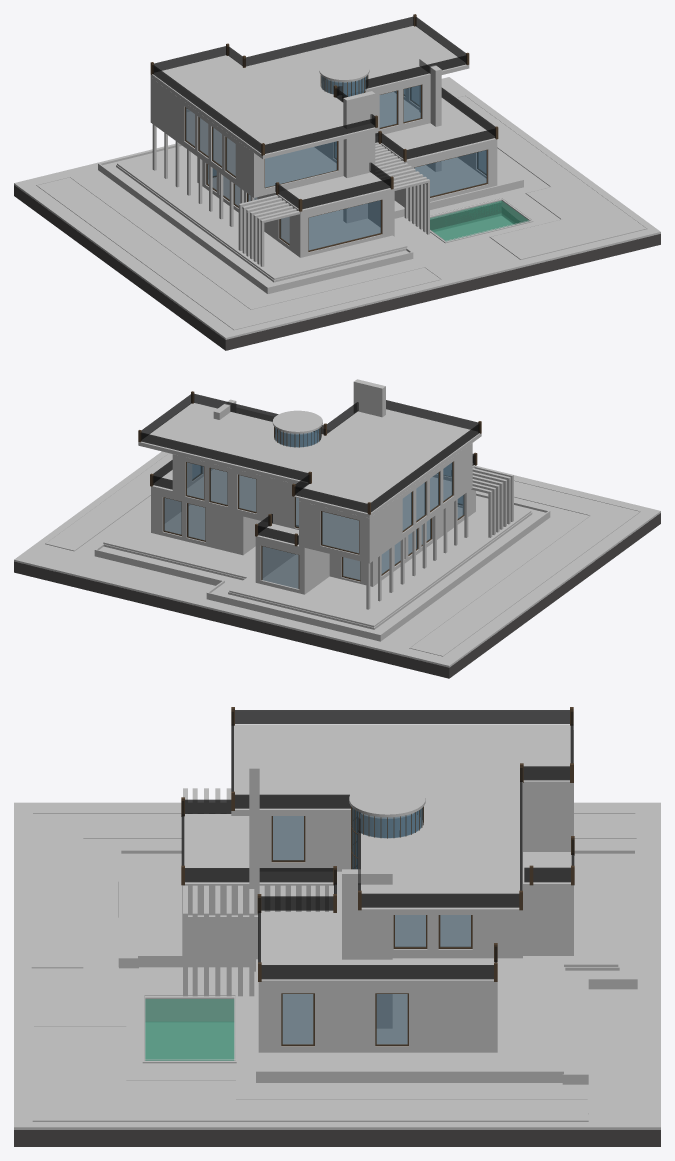
3 views of the same model, one above another, from view 1: azimuth 30°, elevation 25°; view 2: azimuth 150°, elevation 25°; view 3: azimuth 270°, elevation 25° (orthographic). The views are drawn at different scales.
Visible parts, largest first — view 1: Line013_12 - Car Paint_0, Line010_Wall Paint_0, Line019, Line022_24 - Default_0, Line017, Line025_Wall Paint_0, Line002_Ceramic_0, Shape063_01 - Default_0, Line006_Wall Paint_0, Line001_Solid Glass_0, Line004_Wall Paint_0, Line015_05 - Default_0 (+21 smaller); view 2: Line010_Wall Paint_0, Line013_12 - Car Paint_0, Line025_Wall Paint_0, Line002_Ceramic_0, Line019, Line001_Solid Glass_0, Line022_24 - Default_0, Shape063_01 - Default_0, Line015_05 - Default_0, Line007_Metal_0, Line016_04 - Default_0, Line017 (+15 smaller); view 3: Line013_12 - Car Paint_0, Line010_Wall Paint_0, Line025_Wall Paint_0, Line017, Line001_Solid Glass_0, Line006_Wall Paint_0, Line019, Line022_24 - Default_0, Line002_Ceramic_0, Shape063_01 - Default_0, Line021, Line016_04 - Default_0 (+23 smaller).
Boxes of the visible parts, left/top/right/bottom form: Line013_12 - Car Paint_0: left=14, top=77, right=660, bottom=339; Line010_Wall Paint_0: left=152, top=26, right=469, bottom=156; Line019: left=38, top=177, right=439, bottom=329; Line022_24 - Default_0: left=14, top=185, right=660, bottom=350; Line017: left=446, top=96, right=645, bottom=258; Line025_Wall Paint_0: left=117, top=147, right=523, bottom=279; Line002_Ceramic_0: left=150, top=77, right=430, bottom=197; Shape063_01 - Default_0: left=152, top=16, right=467, bottom=153; Line006_Wall Paint_0: left=275, top=86, right=496, bottom=211; Line001_Solid Glass_0: left=197, top=143, right=497, bottom=257; Line004_Wall Paint_0: left=208, top=157, right=486, bottom=250; Line015_05 - Default_0: left=98, top=144, right=413, bottom=293; Line010_Wall Paint_0: left=138, top=403, right=480, bottom=515; Line013_12 - Car Paint_0: left=14, top=408, right=660, bottom=667; Line025_Wall Paint_0: left=103, top=496, right=531, bottom=626; Line002_Ceramic_0: left=172, top=443, right=472, bottom=563; Line019: left=410, top=481, right=639, bottom=655; Line001_Solid Glass_0: left=151, top=489, right=475, bottom=594; Line022_24 - Default_0: left=14, top=513, right=660, bottom=678; Shape063_01 - Default_0: left=140, top=393, right=480, bottom=512; Line015_05 - Default_0: left=94, top=493, right=550, bottom=641; Line007_Metal_0: left=187, top=469, right=451, bottom=552; Line016_04 - Default_0: left=99, top=495, right=545, bottom=633; Line017: left=46, top=453, right=172, bottom=549; Line013_12 - Car Paint_0: left=14, top=802, right=660, bottom=1129; Line010_Wall Paint_0: left=231, top=724, right=573, bottom=910; Line025_Wall Paint_0: left=138, top=856, right=618, bottom=1073; Line017: left=34, top=1027, right=587, bottom=1119; Line001_Solid Glass_0: left=182, top=890, right=573, bottom=1052; Line006_Wall Paint_0: left=182, top=815, right=573, bottom=981; Line019: left=33, top=813, right=635, bottom=966; Line022_24 - Default_0: left=14, top=1130, right=660, bottom=1146; Line002_Ceramic_0: left=259, top=730, right=573, bottom=958; Shape063_01 - Default_0: left=231, top=710, right=573, bottom=907; Line021: left=181, top=799, right=497, bottom=979; Line016_04 - Default_0: left=121, top=853, right=634, bottom=1073.
Size of the model in its own units: 30.21 by 9.95 by 25.44.
